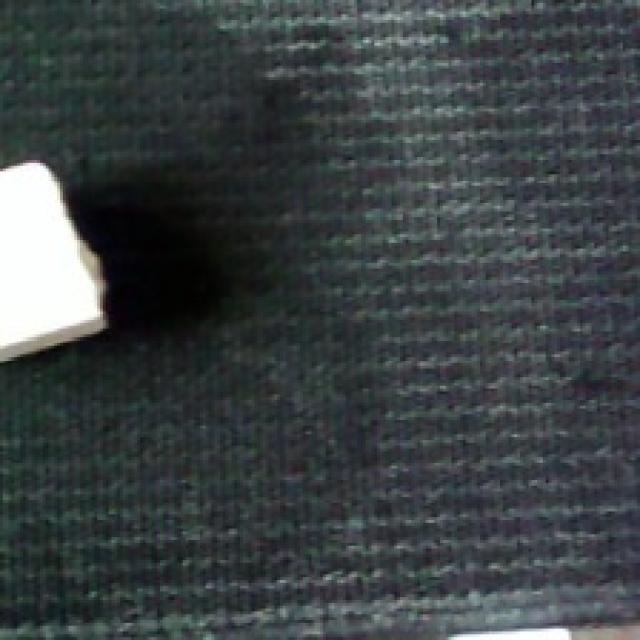defected: (0, 154, 114, 365)
